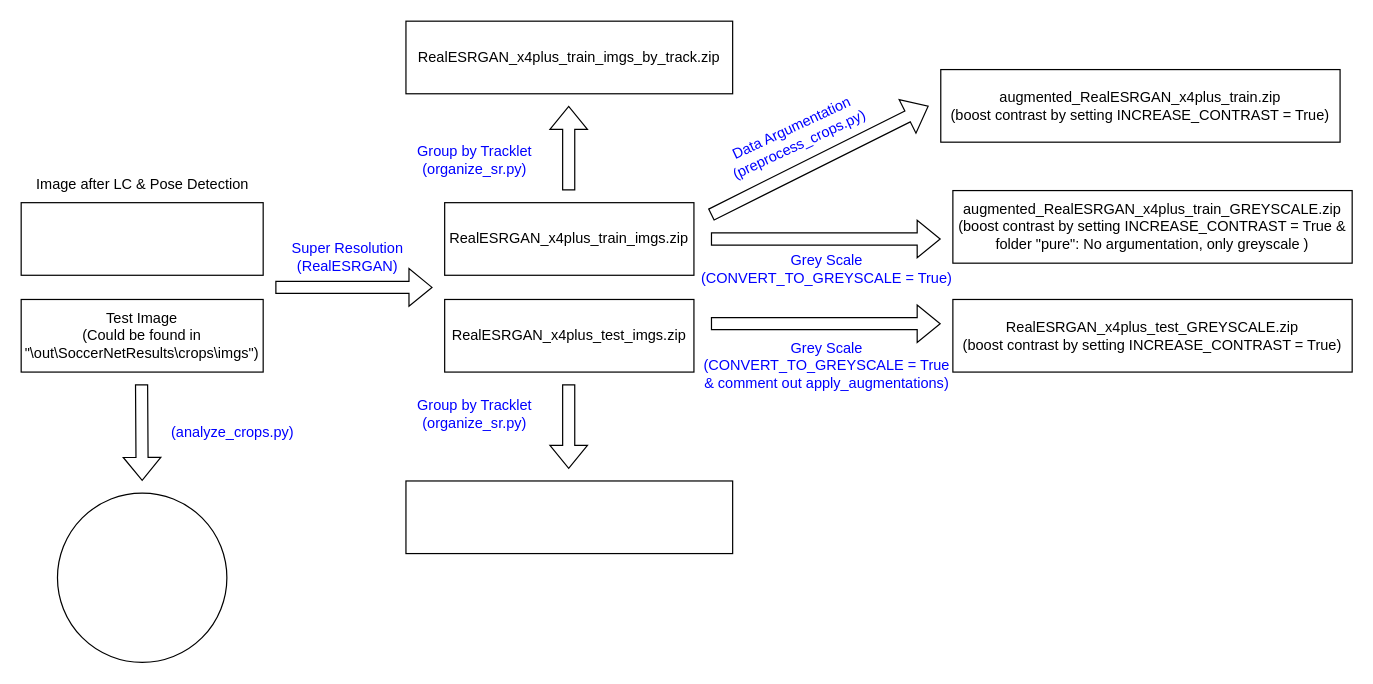
This 1373x684 diagram has some shape labels left out. Each missing label, with the centre of its shape:
One summary .txt file & One .png file showing the distribution: point (141, 577)
RealESRGAN_x4plus_test_imgs_by_track.zip: point (569, 517)
Test Image （Download from OneDrive named image crops on training set）: point (141, 238)
